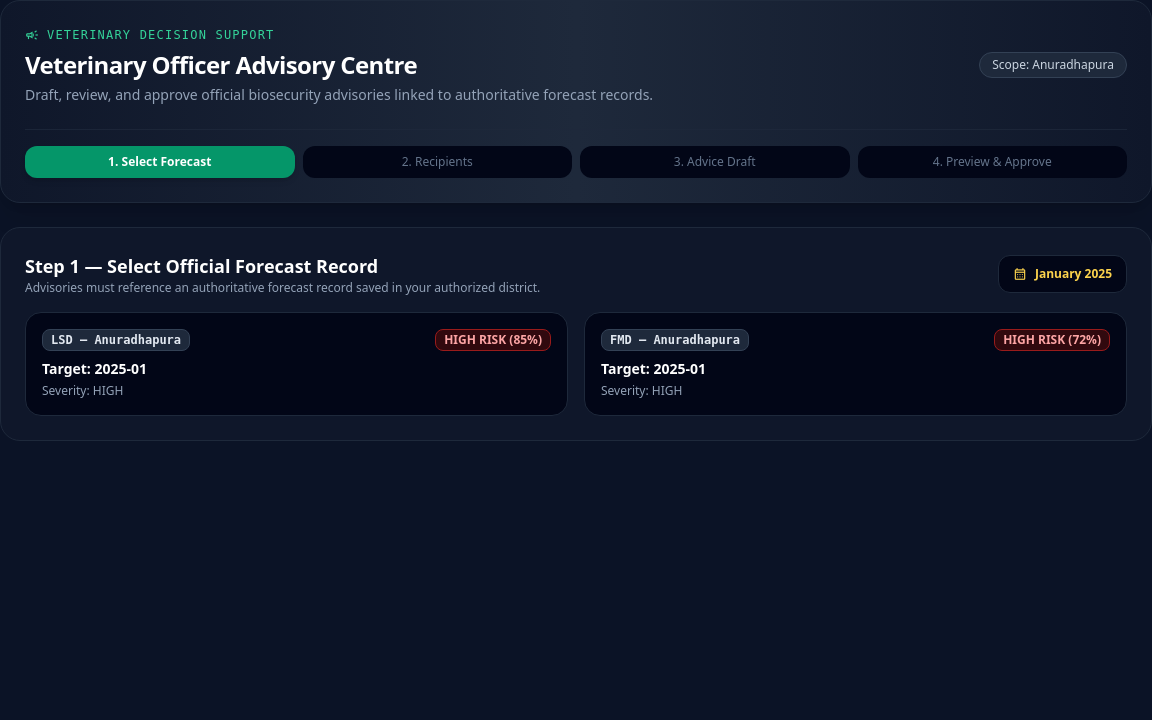
Test: VeterinaryAdvisoryCentre Component › Authorization Gating › renders no recipient PII (phone numbers, email, or home addresses)
Click the text "LSD — Anuradhapura" at (116, 340), box x1=42 y1=329 x2=190 y2=351
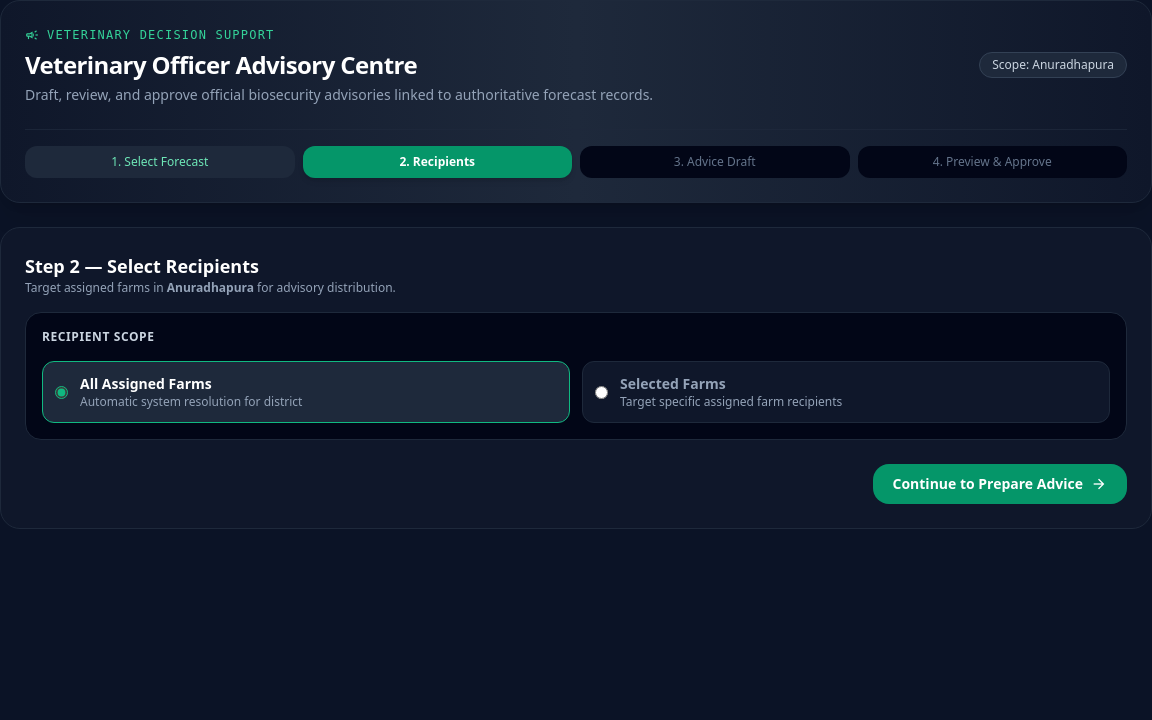
Click the radio button labelled "Selected Farms Target specific assigned farm recipients" at (602, 392), box x1=595 y1=386 x2=608 y2=398
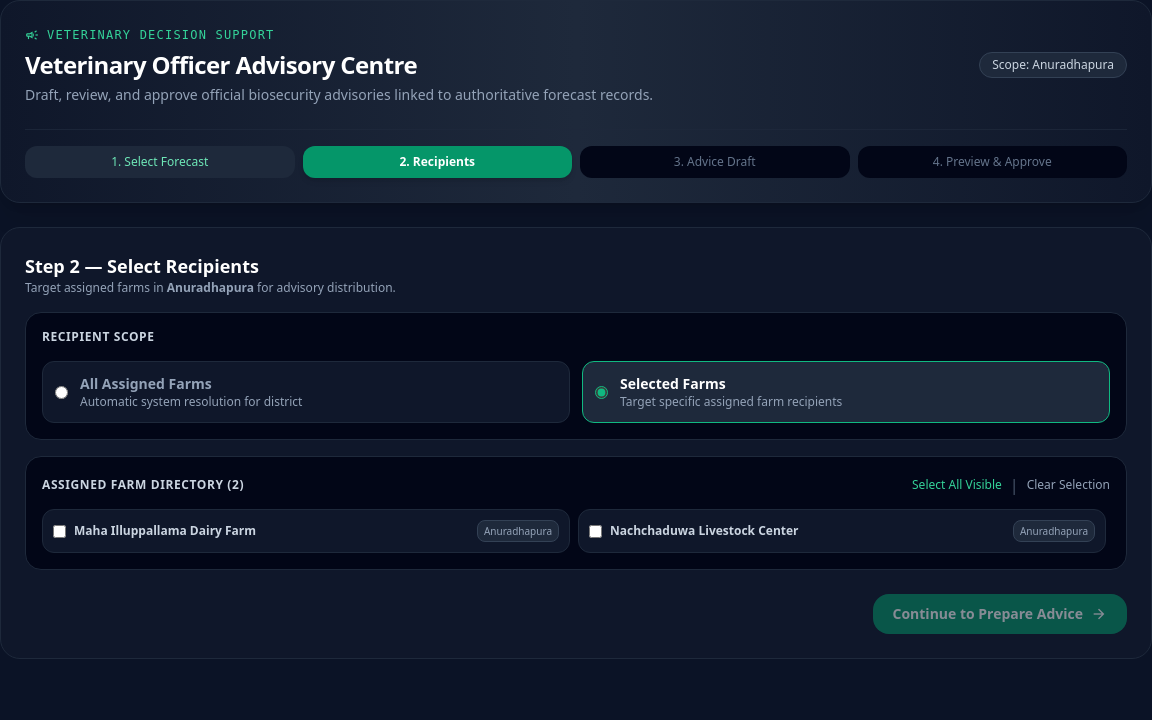
expect the text "Maha Illuppallama Dairy Farm" is shown: met, box x1=74 y1=523 x2=256 y2=539
